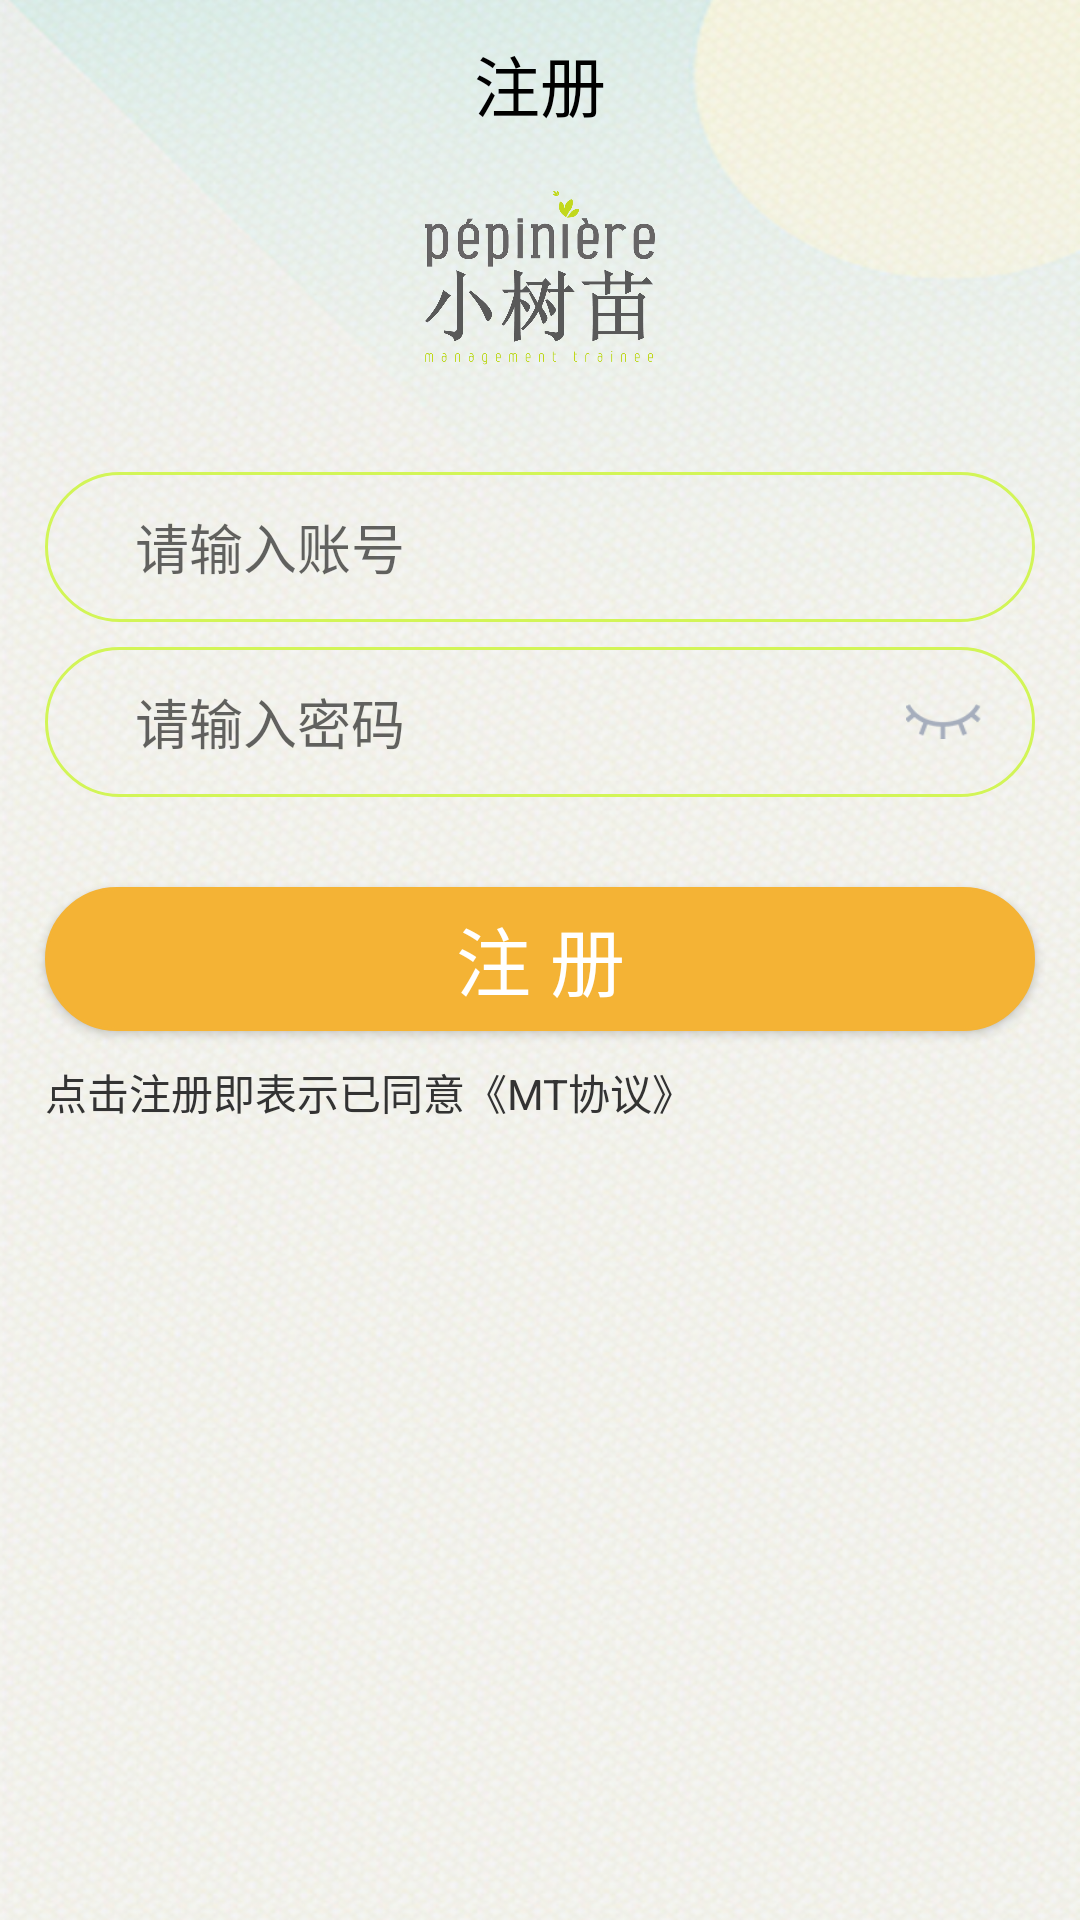

Point at icon controls on the screen. Image size 1080×1920, points as (x,y).
closeeye: (943,721)
